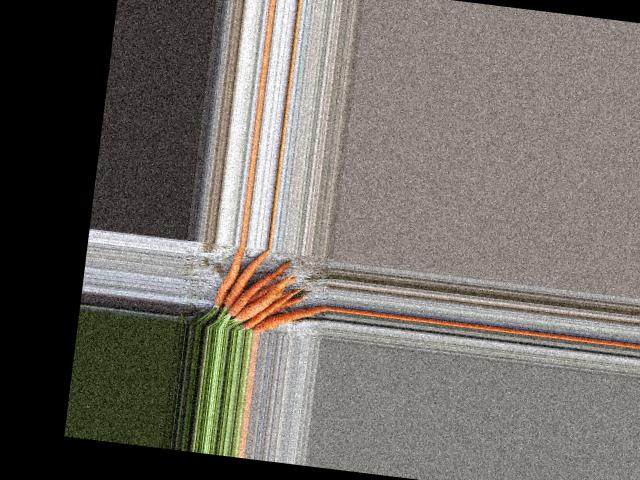carrot: (247, 295, 326, 340)
